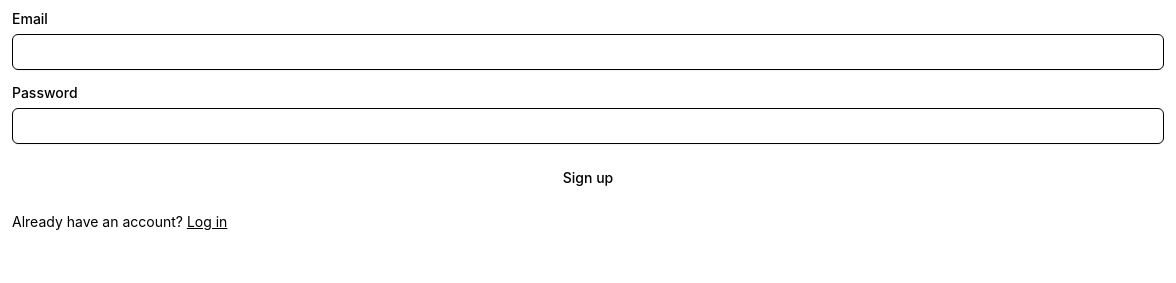
Test: SignupForm › surfaces server conflict error
The width and height of the screenshot is (1176, 283).
In the field labelled "Email": (588, 52) [12,34,1164,70], type "a@b.com"
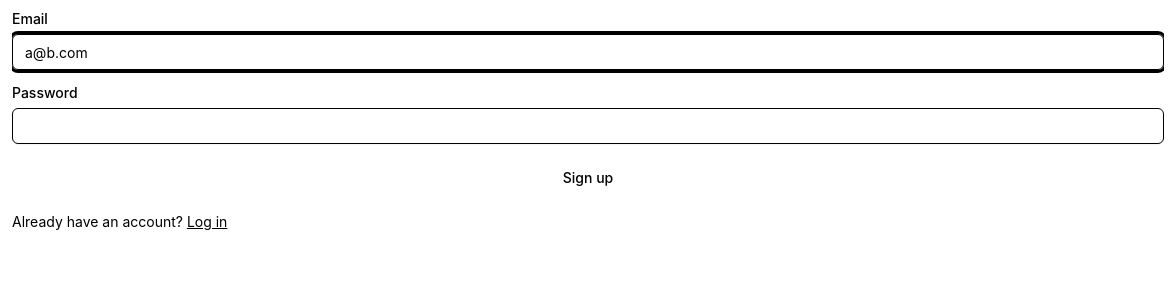
In the password field labelled "Password": (588, 126) [12,108,1164,144], type "hunter2!!"
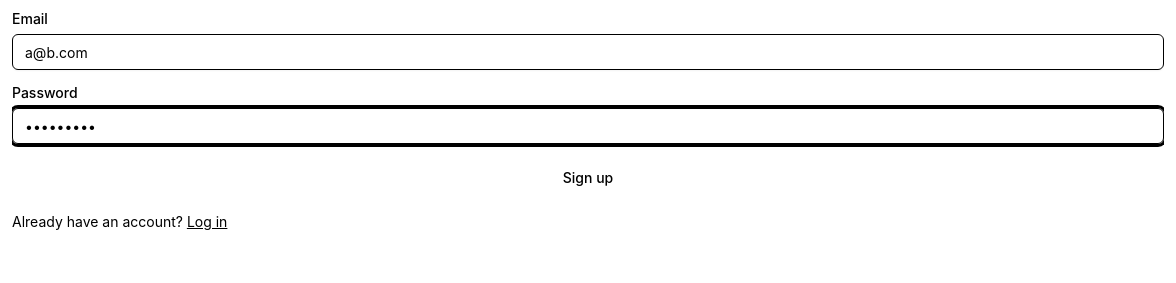
Click the button "Sign up": (588, 178) [12,160,1164,196]
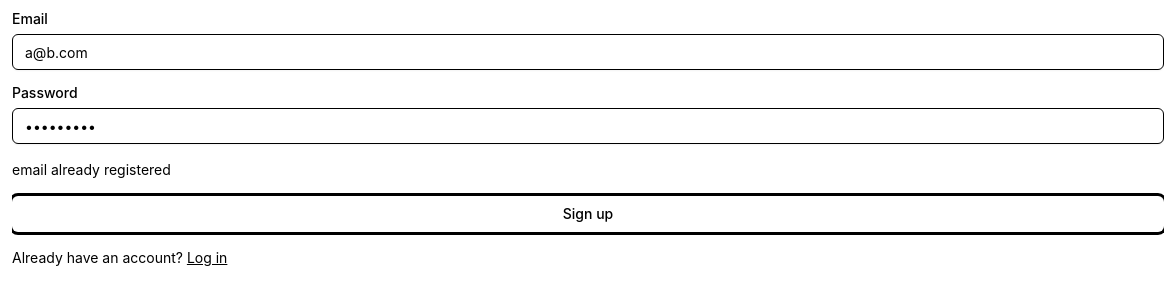
Expected: the text "email already registered" is shown, [12,161,171,178]
